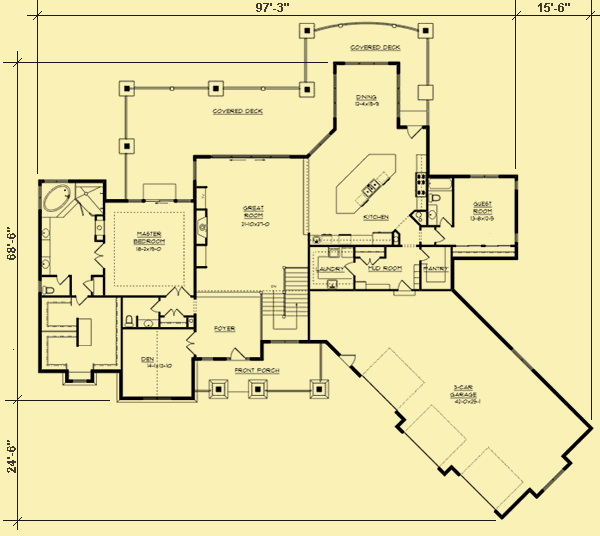door: (179, 329, 197, 362), (93, 239, 110, 271), (163, 282, 191, 298), (392, 273, 413, 291), (358, 253, 384, 267), (403, 121, 422, 140), (224, 345, 246, 361), (54, 270, 73, 288), (417, 243, 434, 263), (149, 295, 162, 317), (162, 307, 184, 320), (74, 293, 93, 307), (343, 258, 357, 277), (79, 276, 96, 291), (432, 227, 447, 244)
kitchen bar: (333, 151, 400, 220)
large sink: (39, 279, 54, 295), (120, 312, 135, 328), (429, 190, 442, 206)
small sink: (39, 216, 55, 278), (424, 204, 441, 224), (137, 316, 157, 329)
stairs: (258, 265, 312, 340)
tub: (41, 184, 72, 214), (424, 176, 454, 193)
windows: (343, 57, 390, 70), (123, 196, 180, 206), (464, 170, 501, 184), (267, 336, 297, 348)
